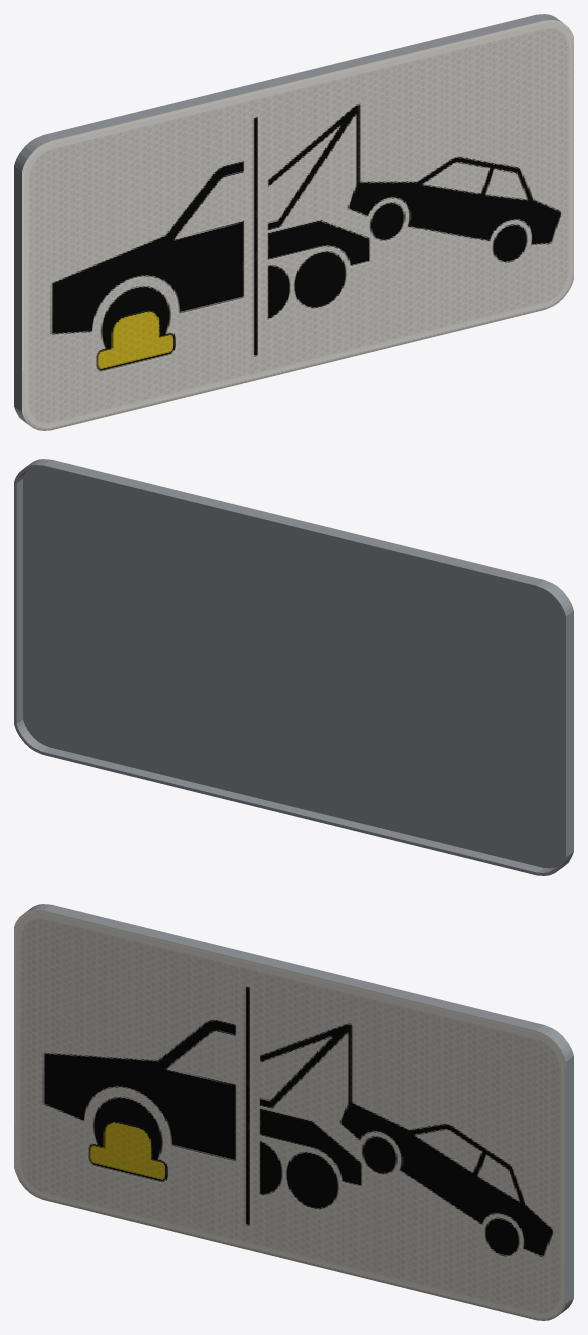
The picture shows the model from 3 angles, top to bottom: view 1: azimuth 30°, elevation 25°; view 2: azimuth 150°, elevation 25°; view 3: azimuth 330°, elevation 25°; orthographic projection.
Visible parts, largest first — view 1: cat_986c0479183daf14; view 2: cat_986c0479183daf14; view 3: cat_986c0479183daf14.
Boxes of the visible parts, x1,y1,x2,y2 form: cat_986c0479183daf14: [14, 14, 573, 430]; cat_986c0479183daf14: [14, 459, 573, 875]; cat_986c0479183daf14: [14, 904, 573, 1320].
Bounding box in the file's own units: 0.6 × 0.015 × 0.3007.
2 materials, 1 textured.
